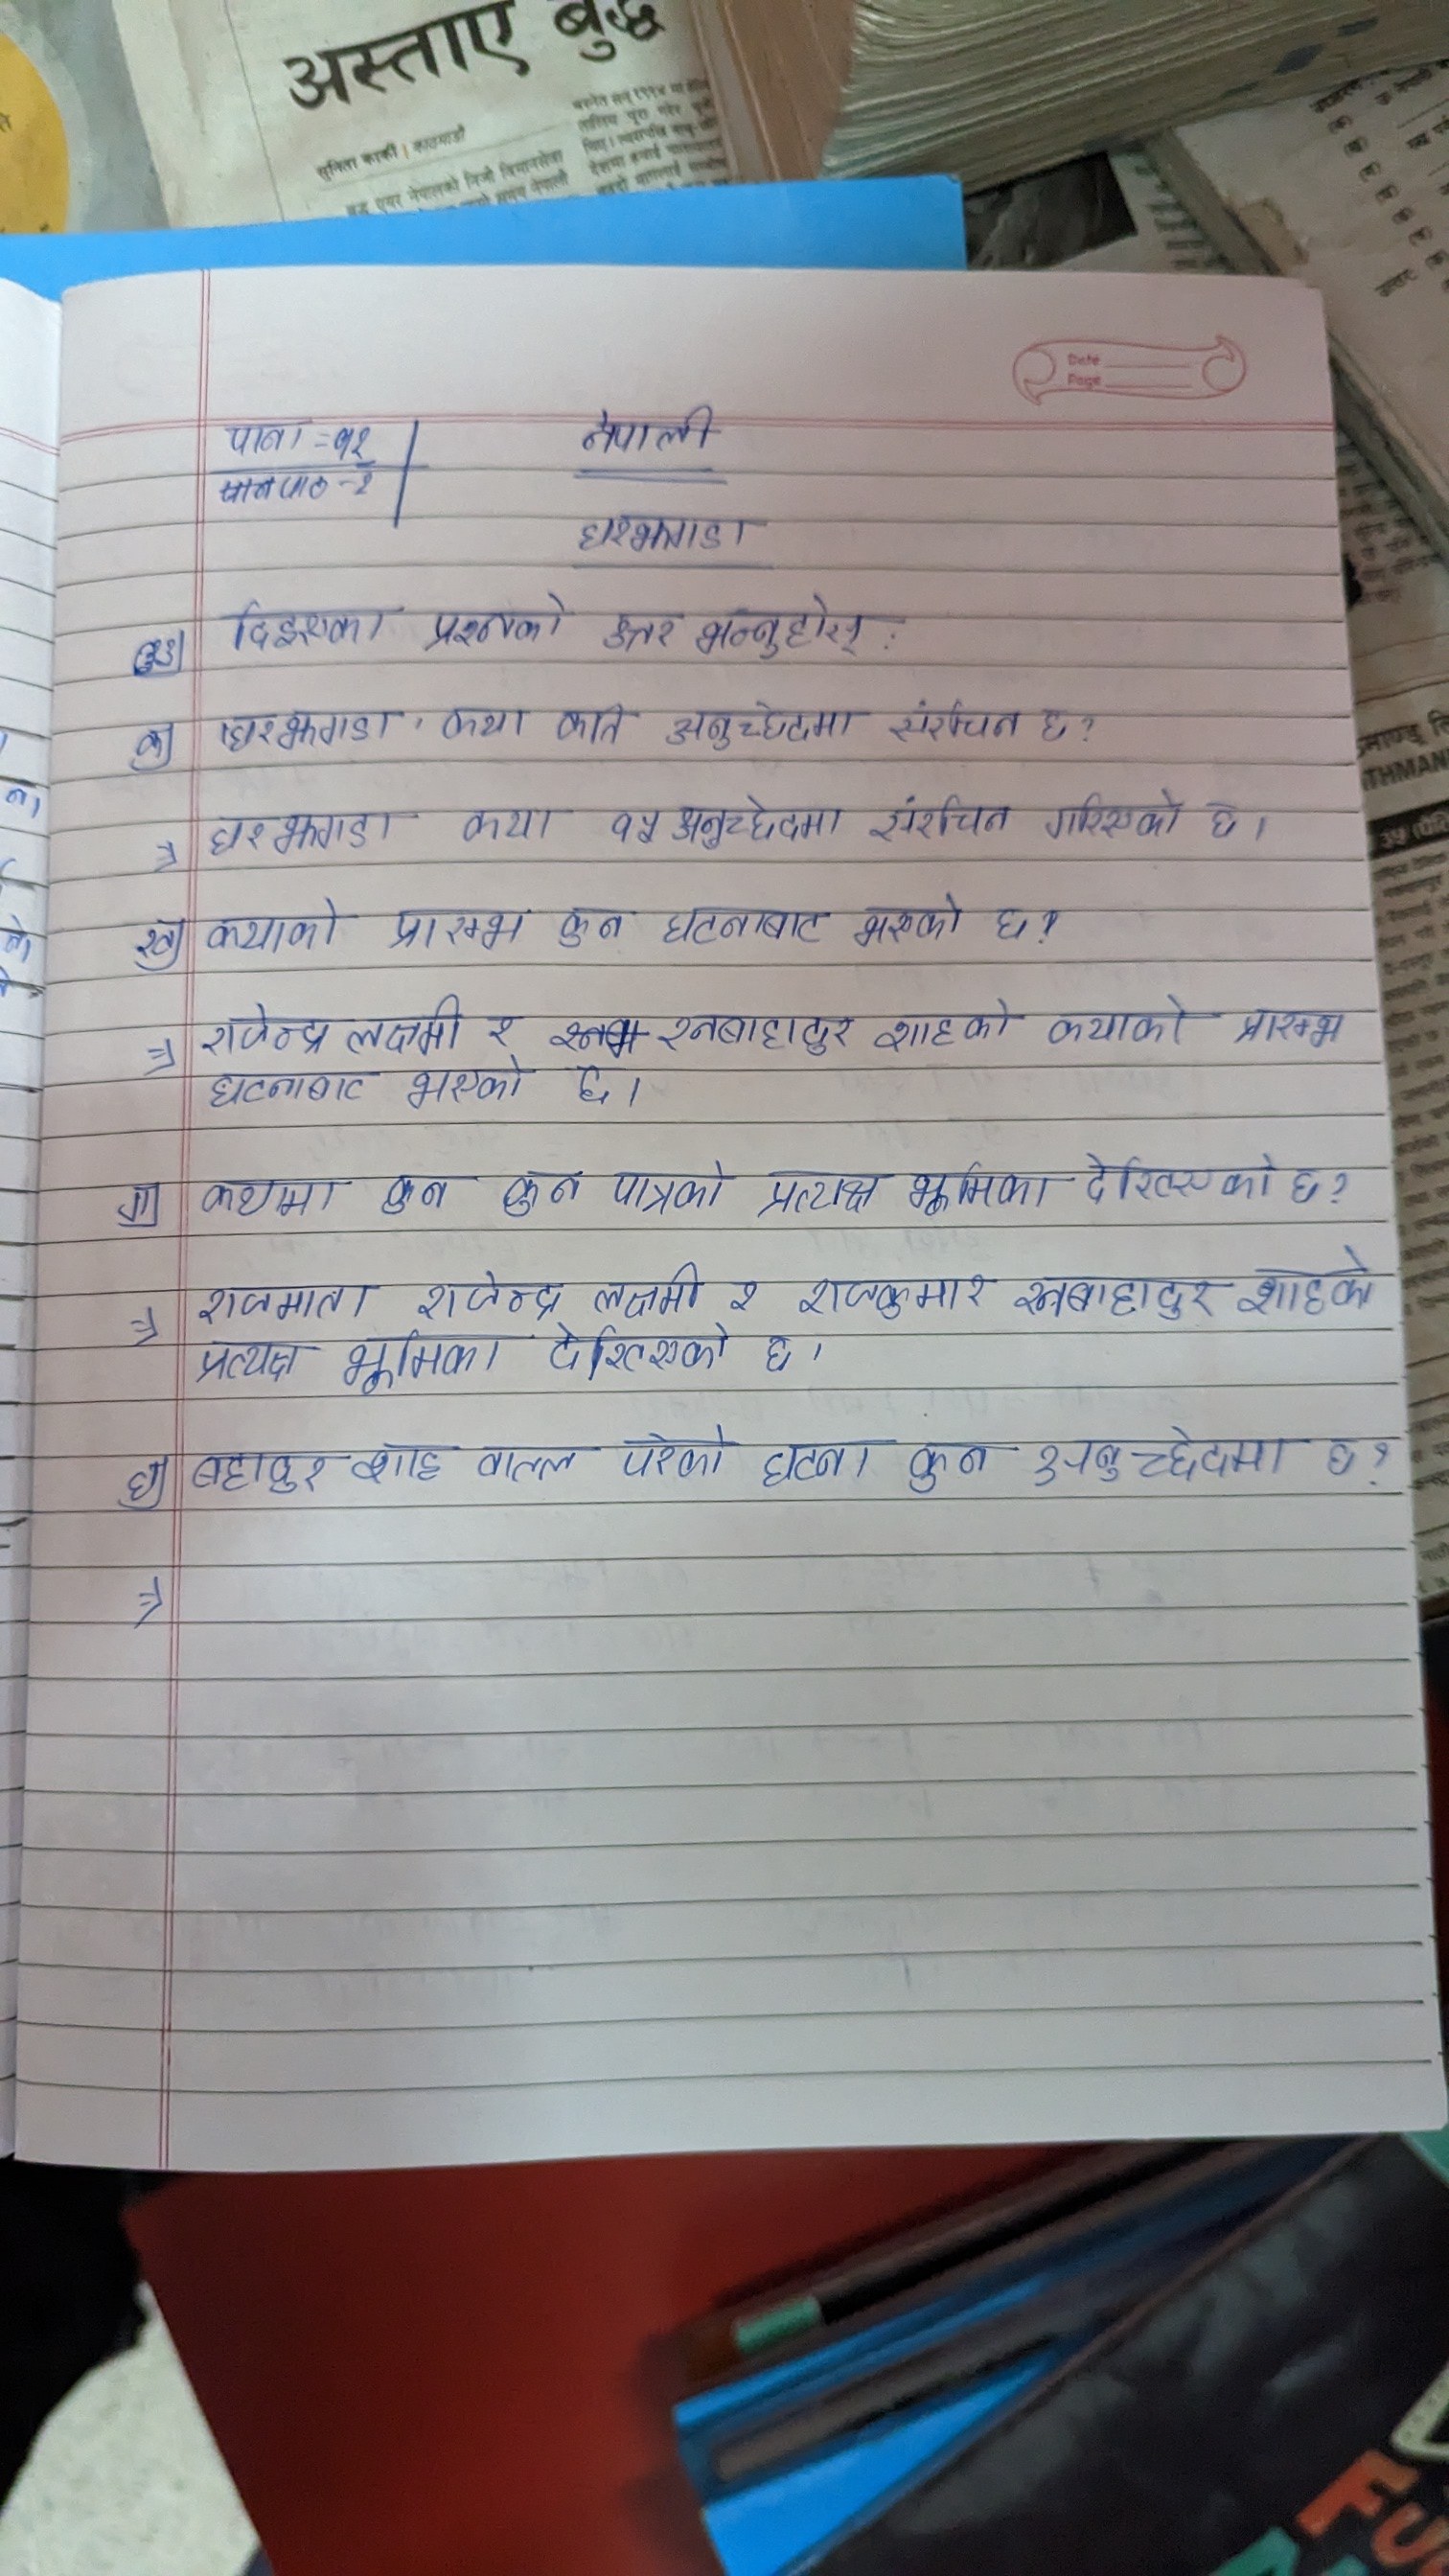text: (1033, 1422, 1306, 1493), (189, 991, 469, 1056), (1081, 1139, 1281, 1217), (694, 584, 890, 655), (1039, 984, 1221, 1056), (557, 494, 777, 554), (651, 1000, 867, 1060), (660, 694, 867, 754), (658, 893, 839, 961), (195, 885, 352, 959), (340, 1327, 527, 1389), (225, 591, 410, 653), (1039, 777, 1185, 855), (1012, 1272, 1226, 1325), (559, 396, 732, 462), (671, 791, 849, 853), (902, 1154, 1074, 1217), (545, 1323, 736, 1380), (214, 695, 410, 748), (1240, 1249, 1380, 1323), (793, 1267, 994, 1318), (200, 1060, 387, 1115), (202, 807, 405, 856), (860, 786, 1024, 846), (754, 1428, 897, 1497), (602, 1146, 738, 1217), (189, 1274, 384, 1323), (421, 591, 571, 655), (874, 994, 1026, 1056), (186, 1440, 340, 1500), (402, 1056, 541, 1122), (188, 1168, 354, 1223), (384, 897, 533, 957), (612, 1419, 743, 1484), (414, 1267, 570, 1322), (750, 1161, 888, 1221), (881, 694, 1021, 750), (906, 1431, 1023, 1499), (849, 888, 968, 954), (373, 1159, 485, 1224), (587, 1261, 706, 1320), (451, 796, 580, 847), (1231, 1000, 1348, 1054), (191, 1336, 313, 1387), (476, 1433, 589, 1488), (437, 694, 543, 750), (495, 1161, 587, 1224), (350, 1433, 453, 1490), (594, 596, 685, 660), (552, 690, 639, 750), (1192, 784, 1254, 853), (221, 405, 304, 456), (552, 899, 633, 950), (117, 1445, 168, 1513), (1031, 686, 1083, 752), (129, 906, 186, 964), (566, 1060, 625, 1115), (984, 890, 1037, 948), (1318, 1419, 1368, 1481), (605, 793, 663, 844), (108, 1171, 163, 1224), (750, 1330, 803, 1384), (131, 713, 175, 773), (479, 1001, 529, 1054), (1284, 1157, 1330, 1212), (720, 1270, 770, 1313), (280, 467, 329, 506), (333, 418, 379, 456), (154, 623, 180, 667), (352, 471, 379, 506)
